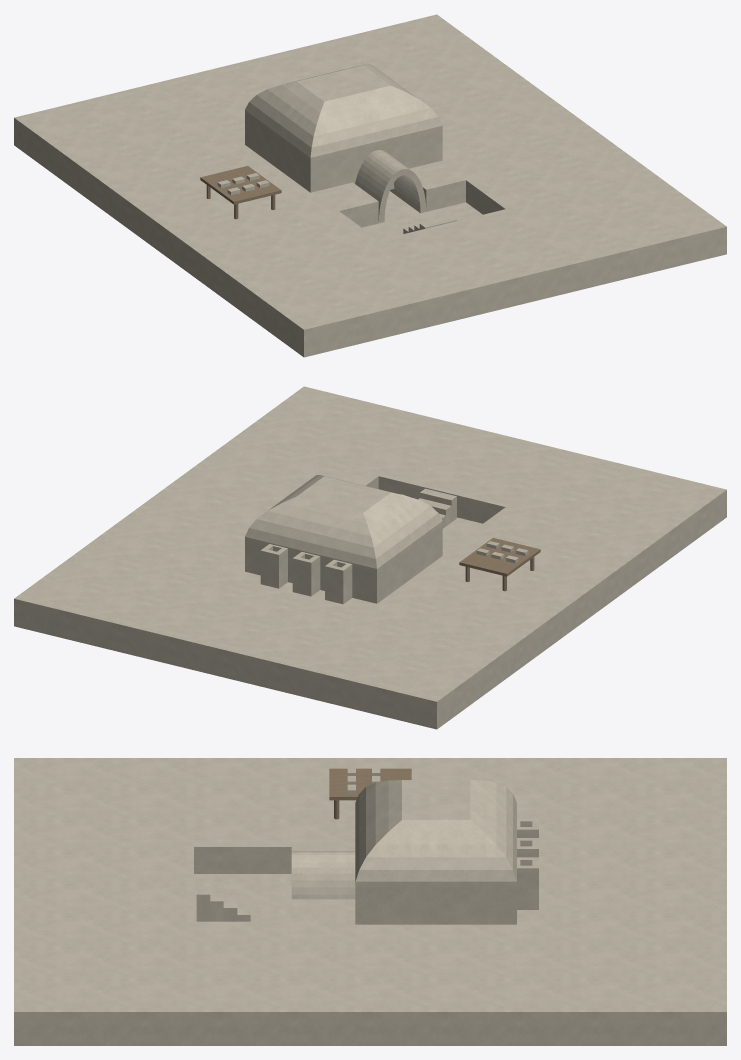
Rendered from kiln-B.glb.
3 views of the same model, one above another, from view 1: azimuth 30°, elevation 25°; view 2: azimuth 150°, elevation 25°; view 3: azimuth 270°, elevation 25° (orthographic). The views are drawn at different scales.
Visible parts, largest first — view 1: B_presentation_ground, B_detachable_roof_C, B_chamber_walls, B_fire_hood, B_operation_pit_floor, B_blank_drying_board_C, B_fire_floor; view 2: B_presentation_ground, B_detachable_roof_C, B_chamber_walls, B_blank_drying_board_C, B_short_flue.001, B_short_flue, B_short_flue.002; view 3: B_presentation_ground, B_detachable_roof_C, B_chamber_walls, B_fire_hood, B_operation_pit_floor, B_blank_drying_board_C, B_short_flue.002, B_pit_access_step, B_pit_access_step.001, B_pit_access_step.002.
Part boxes in pixels (box(x1,y1,x2,y2)): B_presentation_ground: box(14, 14, 726, 357); B_detachable_roof_C: box(245, 63, 442, 157); B_chamber_walls: box(245, 110, 442, 192); B_fire_hood: box(355, 150, 426, 223); B_operation_pit_floor: box(362, 202, 482, 239); B_blank_drying_board_C: box(200, 166, 281, 204); B_fire_floor: box(384, 191, 419, 221); B_presentation_ground: box(14, 386, 726, 729); B_detachable_roof_C: box(245, 475, 442, 568); B_chamber_walls: box(245, 521, 442, 603); B_blank_drying_board_C: box(459, 538, 540, 576); B_short_flue.001: box(292, 552, 320, 596); B_short_flue: box(325, 559, 352, 604); B_short_flue.002: box(260, 544, 287, 588); B_presentation_ground: box(14, 758, 726, 1045); B_detachable_roof_C: box(355, 780, 516, 881); B_chamber_walls: box(355, 881, 516, 924); B_fire_hood: box(291, 851, 355, 899); B_operation_pit_floor: box(194, 874, 291, 922); B_blank_drying_board_C: box(329, 768, 411, 800); B_short_flue.002: box(517, 857, 538, 909); B_pit_access_step: box(196, 875, 210, 921); B_pit_access_step.001: box(210, 882, 223, 921); B_pit_access_step.002: box(223, 889, 237, 921).
Size of the model in its own units: 16 by 3.54 by 19.
3 materials, 3 textured.
